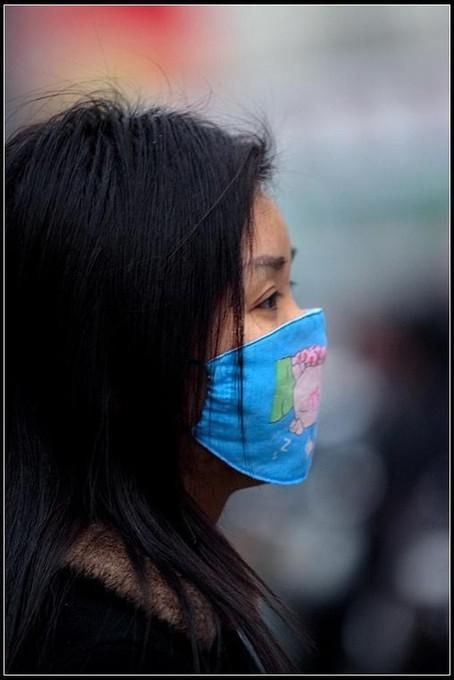OK: (143, 244, 330, 482)
